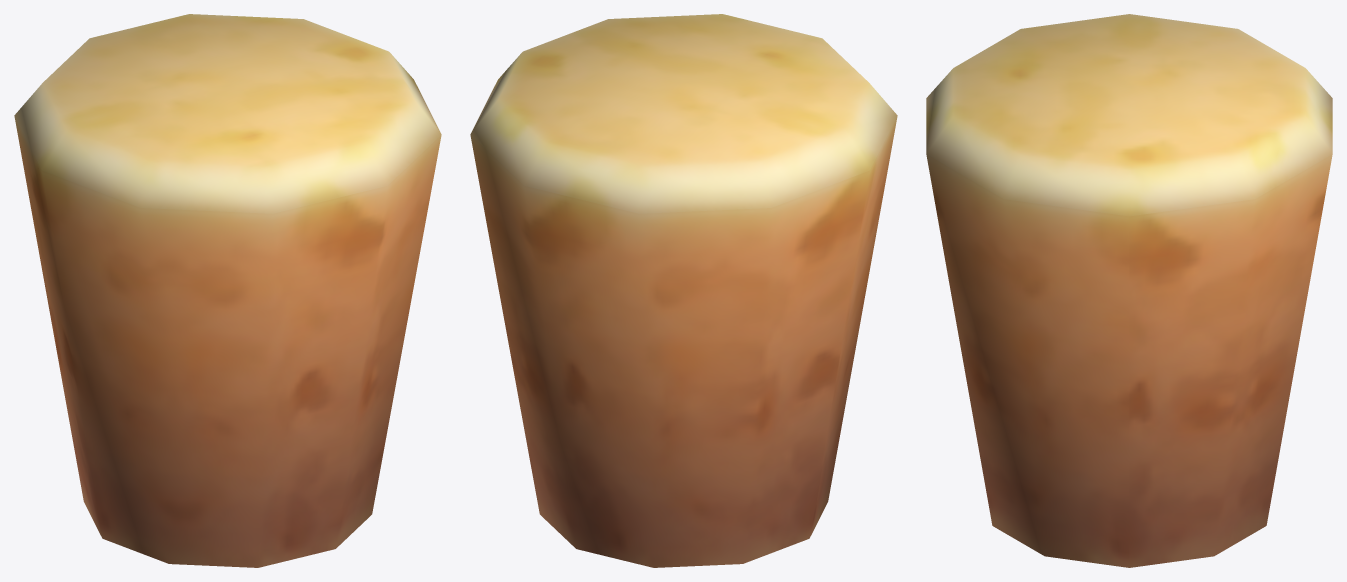
Rendered from SE_Cork_Stopper_01.fbx.
3 renders of one model, left to right at view 1: azimuth 30°, elevation 25°; view 2: azimuth 150°, elevation 25°; view 3: azimuth 270°, elevation 25°, orthographic.
Visible parts, largest first — view 1: SE_Cork_Stopper_01; view 2: SE_Cork_Stopper_01; view 3: SE_Cork_Stopper_01.
Boxes of the visible parts, box(x1,y1,x2,y2) form: SE_Cork_Stopper_01: box(14, 14, 441, 567); SE_Cork_Stopper_01: box(470, 14, 897, 567); SE_Cork_Stopper_01: box(926, 14, 1332, 567).
Bounding box in the file's own units: 0.4788 × 0.5223 × 0.4553.
